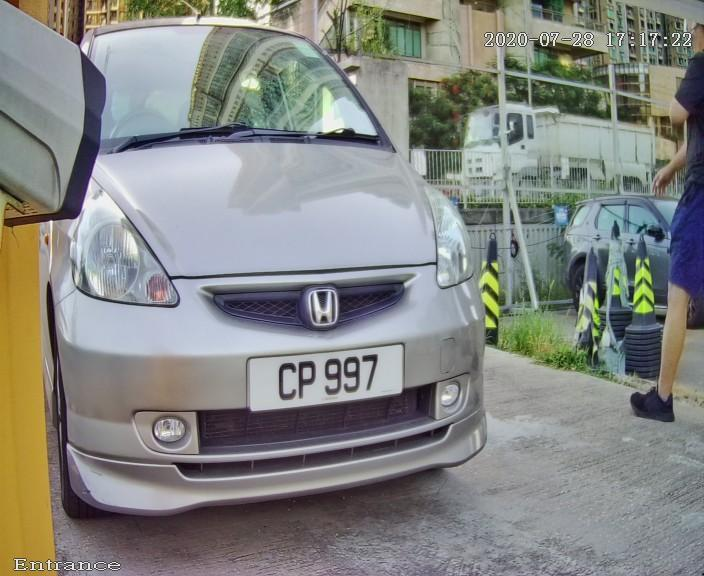privatecar: (19, 21, 551, 533)
